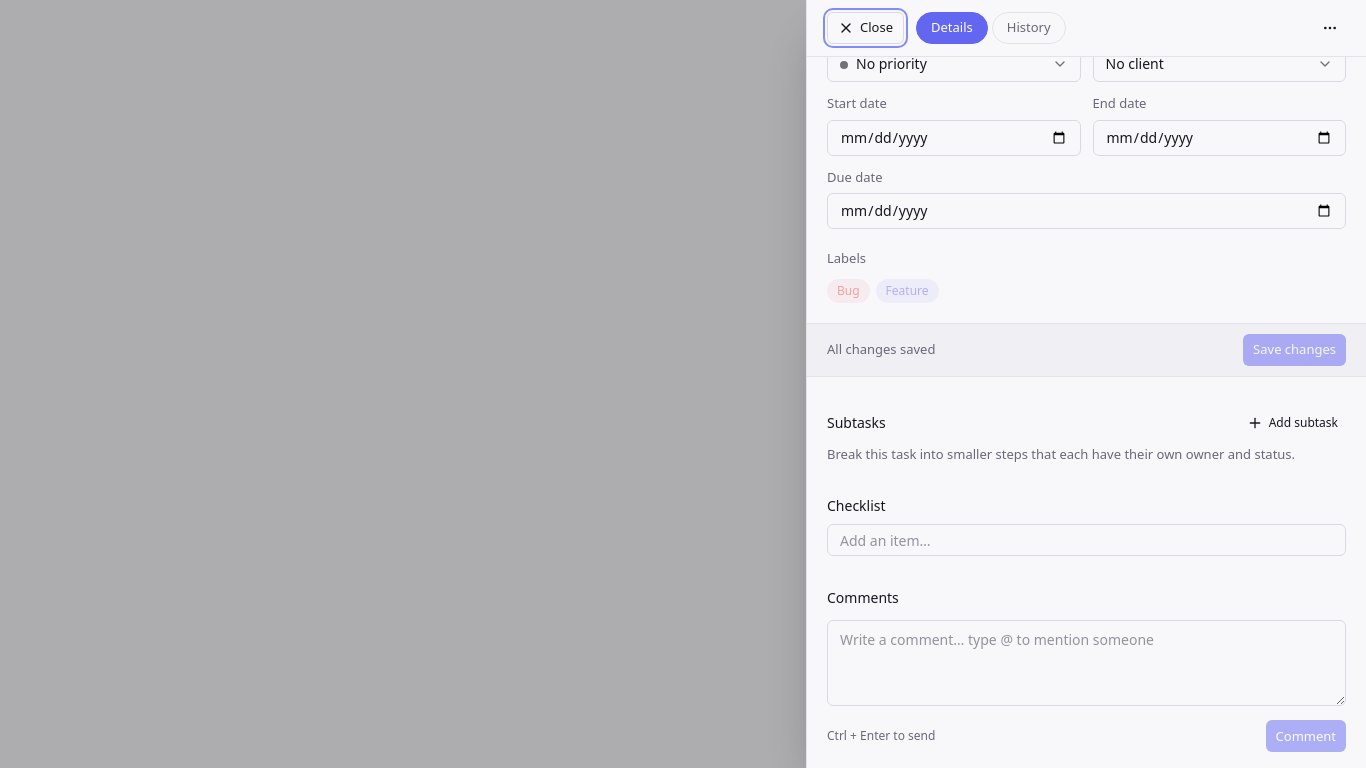
Test: task panel: comments › autocompletes @mentions and sends the mentioned people
(page scrolled)
Type "Thanks @ja" into the text box labelled "Write a comment". click: (1086, 663)
box: [827,620,1346,706]
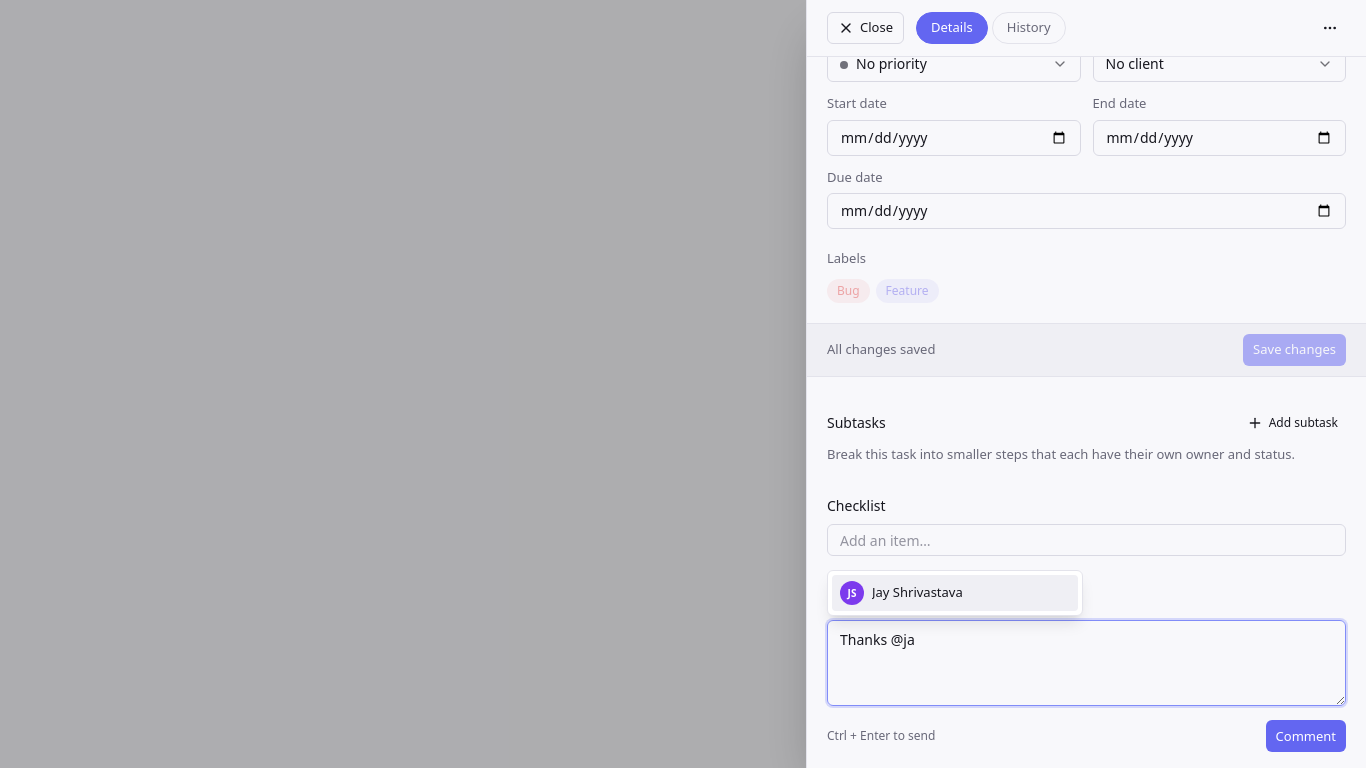
Check: the number of options is 1, box [832,575,1078,611]
Press Enter
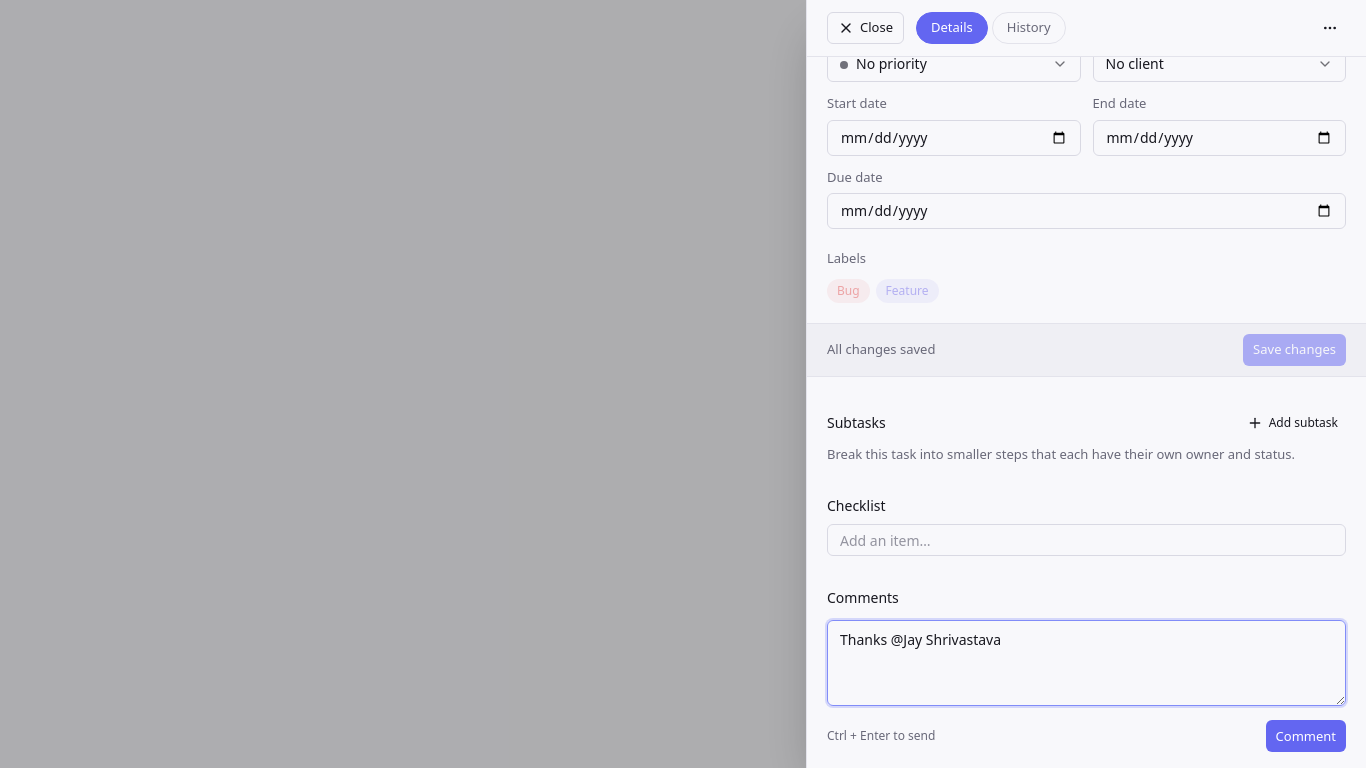
Type "looks good" into the text box named "Write a comment". click: (1086, 663)
box: [827,620,1346,706]
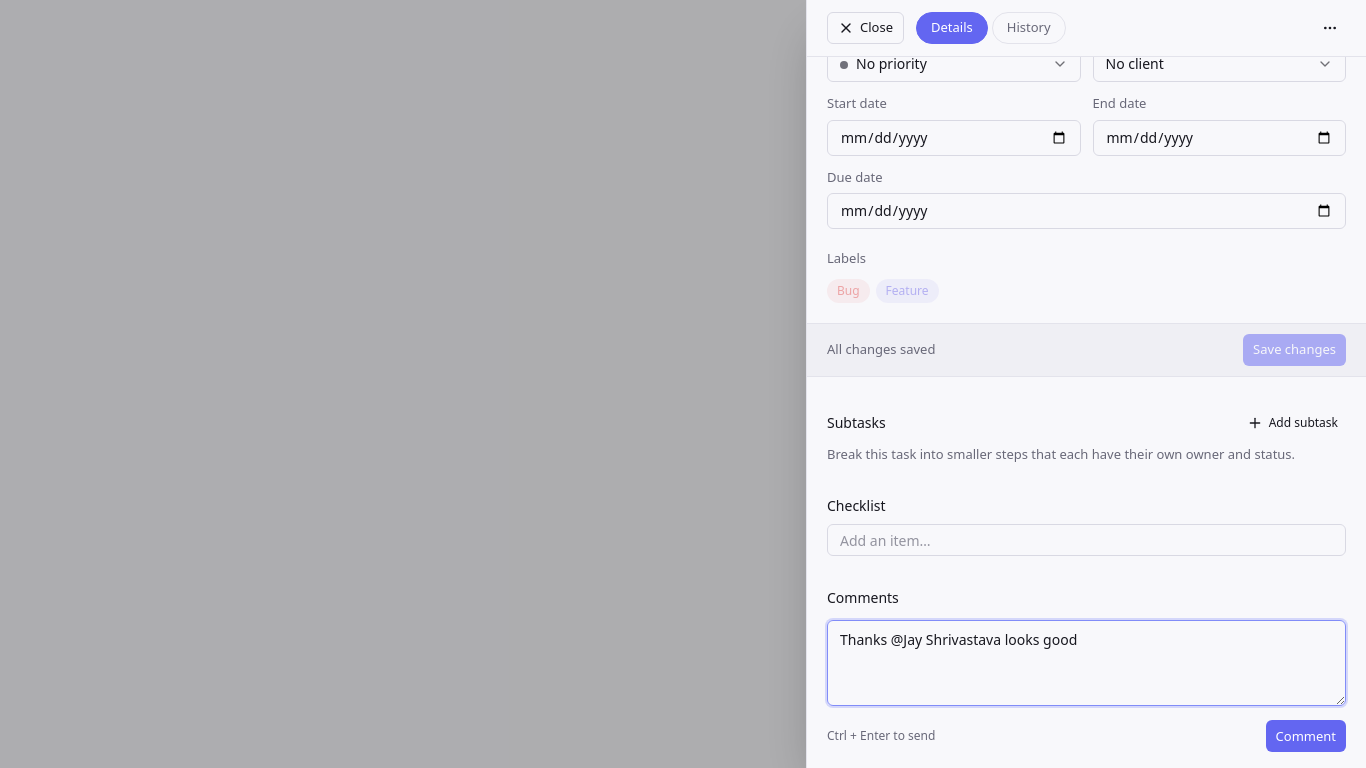
Check: the text box named "Write a comment" holds "Thanks @Jay Shrivastava looks good", box [827,620,1346,706]
Click the button "Comment". click: (1306, 736)
box: [1266,720,1346,752]
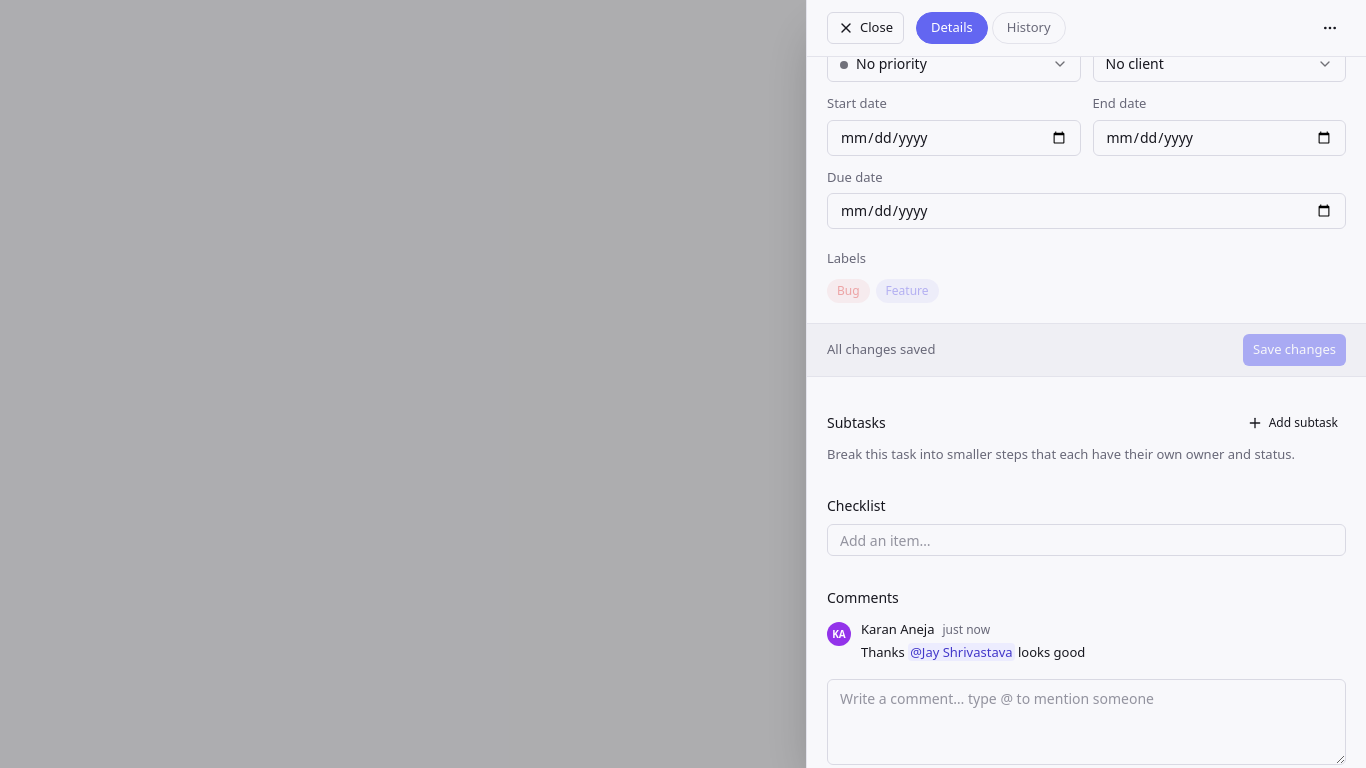
Check: the text "@Jay Shrivastava" is shown, box [908,642,1015,660]
Check: the text box labelled "Write a comment" is empty, box [827,679,1346,765]
